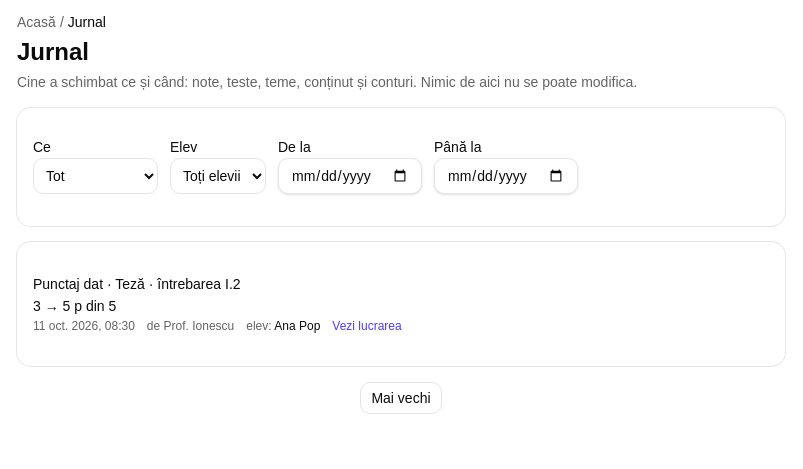
Test case: AdminAuditPage › "Mai vechi" adds the next page below and disappears after the last one
This screenshot has width=803, height=469.
Expected: the list item with test id "audit-row" is shown, x1=33 y1=276 x2=402 y2=333
Click the button "Mai vechi" at x=401, y=398, box x1=360 y1=382 x2=442 y2=414
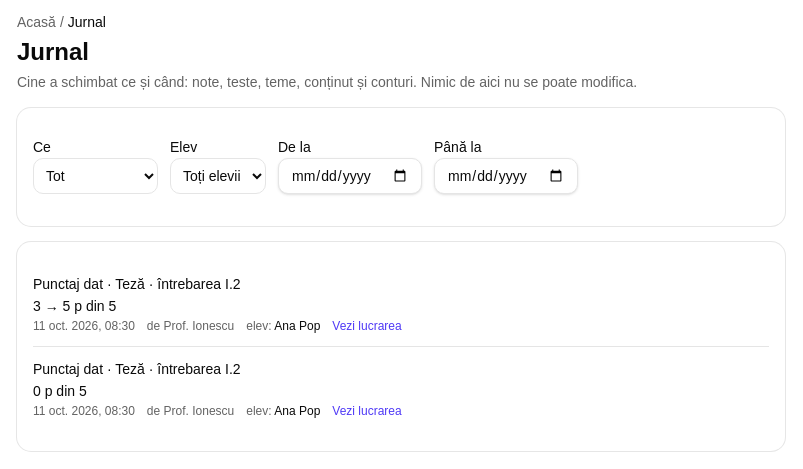
Expected: the number of list items with test id "audit-row" is 2, x1=33 y1=262 x2=769 y2=347; x1=33 y1=361 x2=402 y2=418
Expected: the button "Mai vechi" is gone
